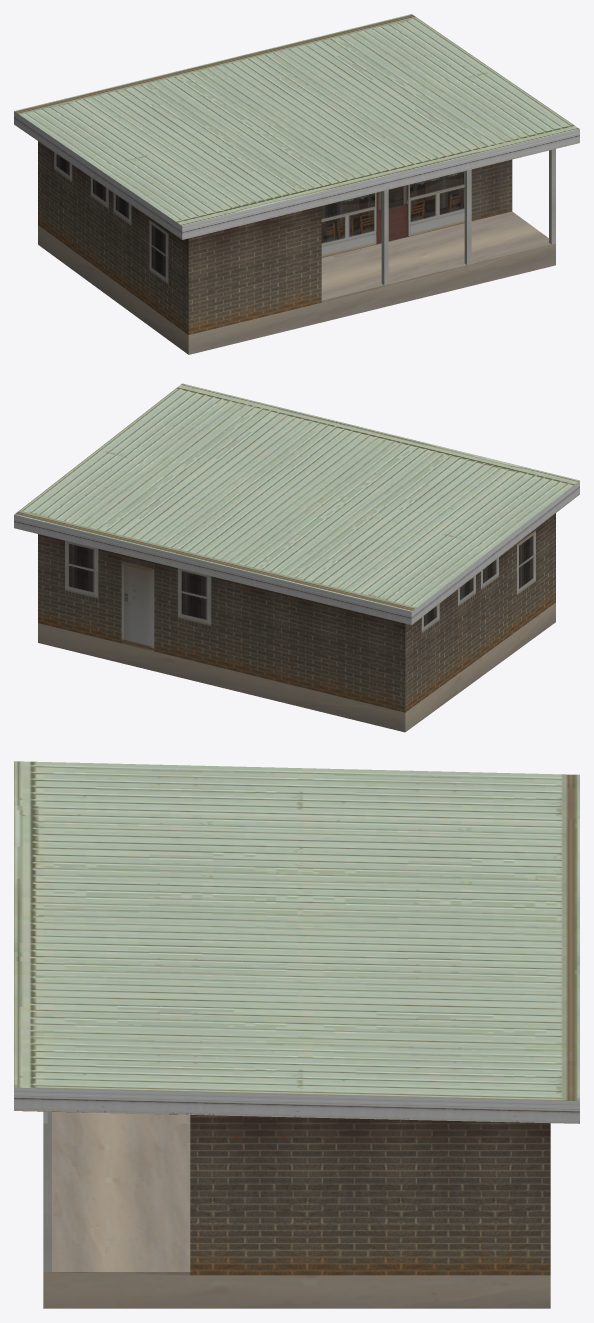
The model's file is terminal-tiny-03-10x7-cbj_LOD00.gltf.
3 views of the same model, one above another, from view 1: azimuth 30°, elevation 25°; view 2: azimuth 150°, elevation 25°; view 3: azimuth 270°, elevation 25° (orthographic). The views are drawn at different scales.
Parts seen in each view (by area): view 1: Sketchup; view 2: Sketchup; view 3: Sketchup.
Part boxes in pixels (x1=…): Sketchup: x1=14, y1=14, x2=579, y2=354; Sketchup: x1=14, y1=383, x2=579, y2=732; Sketchup: x1=14, y1=761, x2=579, y2=1308.
Bounding box in the file's own units: 10.5 × 3.5 × 7.7.
